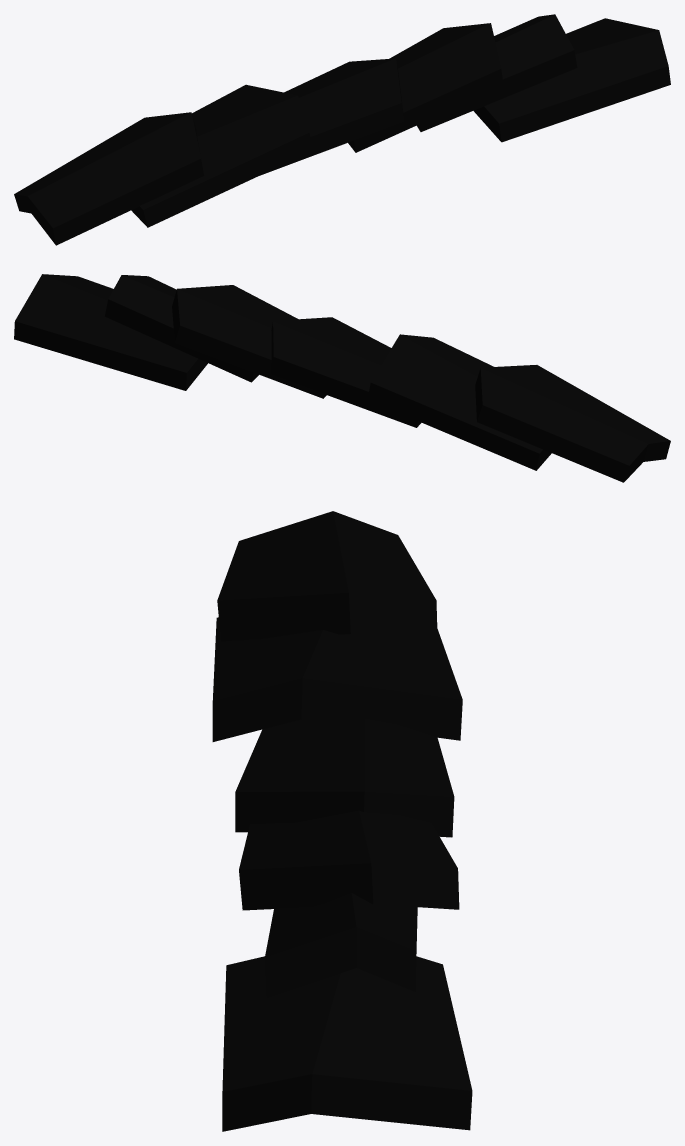
Rendered from Roof 03 Finish Top.fbx.
The picture shows the model from 3 angles, top to bottom: view 1: azimuth 30°, elevation 25°; view 2: azimuth 150°, elevation 25°; view 3: azimuth 270°, elevation 25°; orthographic projection. The views are drawn at different scales.
Visible parts, largest first — view 1: Roof 03 Finish Top; view 2: Roof 03 Finish Top; view 3: Roof 03 Finish Top.
Part boxes in pixels (x1,y1,x2,y2): Roof 03 Finish Top: [14, 14, 670, 245]; Roof 03 Finish Top: [14, 274, 670, 482]; Roof 03 Finish Top: [212, 511, 472, 1131].
Size of the model in its own units: 404 by 52.65 by 74.04.
